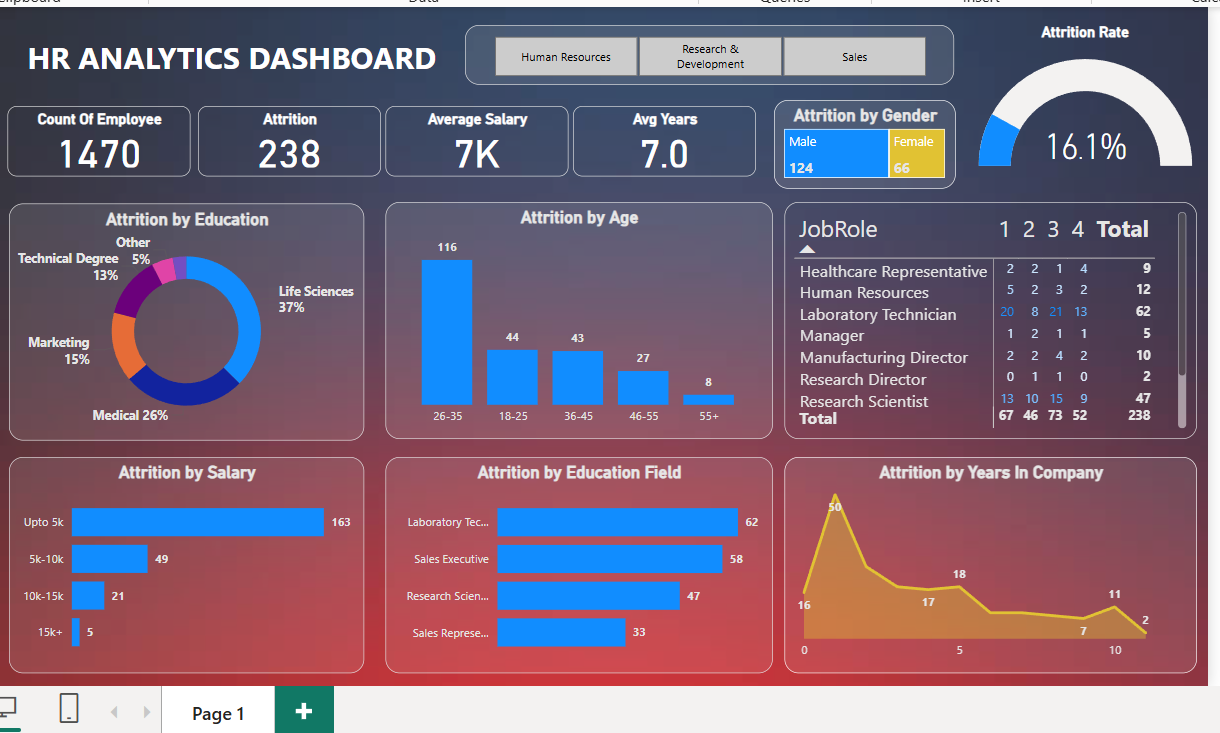

The page's visual inventory and layout, read from the dashboard file:
{"tool":"powerbi","page":{"name":"Page 1","canvas":[1280,720],"ordinal":0},"visuals":[{"type":"card","title":"Count Of Employee","fields":{"Values":["Count(HR_Analytics.EmpID)"]},"box":[8,105,194.1,74.8],"z":0},{"type":"card","title":"Attrition","fields":{"Values":["Sum(HR_Analytics.Attrition Count)"]},"box":[210,105,194.1,74.8],"z":1000},{"type":"card","title":"Average Salary","fields":{"Values":["Avg(HR_Analytics.MonthlyIncome)"]},"box":[408.8,105,194.1,74.8],"z":2000},{"type":"card","title":"Avg Years","fields":{"Values":["Avg(HR_Analytics.YearsAtCompany)"]},"box":[607.6,105,194.1,74.8],"z":3000},{"type":"donutChart","title":"Attrition by Education","fields":{"Category":["HR_Analytics.EducationField"],"Y":["Sum(HR_Analytics.Attrition Count)"]},"box":[9.5,208.4,377,251.3],"z":4000},{"type":"columnChart","title":"Attrition by Age","fields":{"Category":["HR_Analytics.AgeGroup"],"Y":["Sum(HR_Analytics.Attrition Count)"]},"box":[408.8,206.8,410.4,251.3],"z":5000},{"type":"pivotTable","title":"Job Satisfaction By Job Role & Attrition Count","fields":{"Rows":["HR_Analytics.JobRole"],"Columns":["HR_Analytics.JobSatisfaction"],"Values":["Sum(HR_Analytics.Attrition Count)"]},"box":[831.9,206.8,437.4,251.3],"z":6000},{"type":"barChart","title":"Attrition by Salary","fields":{"Category":["HR_Analytics.SalarySlab"],"Y":["Sum(HR_Analytics.Attrition Count)"]},"box":[9.5,477.2,377,229],"z":7000},{"type":"barChart","title":"Attrition by Education Field","fields":{"Category":["HR_Analytics.JobRole"],"Y":["Sum(HR_Analytics.Attrition Count)"]},"box":[408.8,477.2,410.4,229],"z":8000},{"type":"areaChart","title":"Attrition by Years In Company","fields":{"Category":["HR_Analytics.YearsAtCompany"],"Y":["Sum(HR_Analytics.Attrition Count)"]},"box":[831.9,477.2,437.4,229],"z":9000},{"type":"treemap","title":"Attrition by Gender","fields":{"Values":["Sum(HR_Analytics.Attrition Count)"],"Group":["HR_Analytics.Gender"]},"box":[820.8,98.6,192.5,93.8],"z":10000},{"type":"slicer","fields":{"Values":["HR_Analytics.Department"]},"box":[493.1,19.1,518.5,63.6],"z":11000},{"type":"textbox","box":[23.9,25.4,459.7,57.3],"z":12000},{"type":"gauge","fields":{"Y":["HR_Analytics.Attrition Rate"]},"box":[1032.3,17.5,237,170.2],"z":13000}]}

Visuals, with their boxes in screenshot pixels (x1, y1, x2, y2):
"Count Of Employee" card: (61, 136, 237, 204)
"Attrition" card: (244, 136, 420, 204)
"Average Salary" card: (425, 136, 601, 204)
"Avg Years" card: (605, 136, 781, 204)
"Attrition by Education" donutChart: (63, 230, 404, 458)
"Attrition by Age" columnChart: (425, 229, 797, 457)
"Job Satisfaction By Job Role & Attrition Count" pivotTable: (808, 229, 1205, 457)
"Attrition by Salary" barChart: (63, 474, 404, 682)
"Attrition by Education Field" barChart: (425, 474, 797, 682)
"Attrition by Years In Company" areaChart: (808, 474, 1205, 682)
"Attrition by Gender" treemap: (798, 131, 973, 216)
slicer - HR_Analytics.Department: (501, 59, 971, 116)
textbox: (76, 64, 492, 116)
gauge - HR_Analytics.Attrition Rate: (990, 57, 1205, 211)
